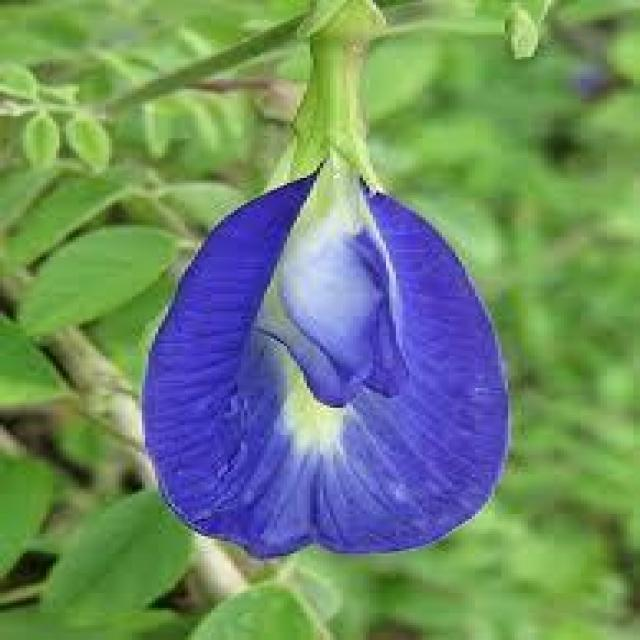organic waste: (127, 162, 520, 564)
